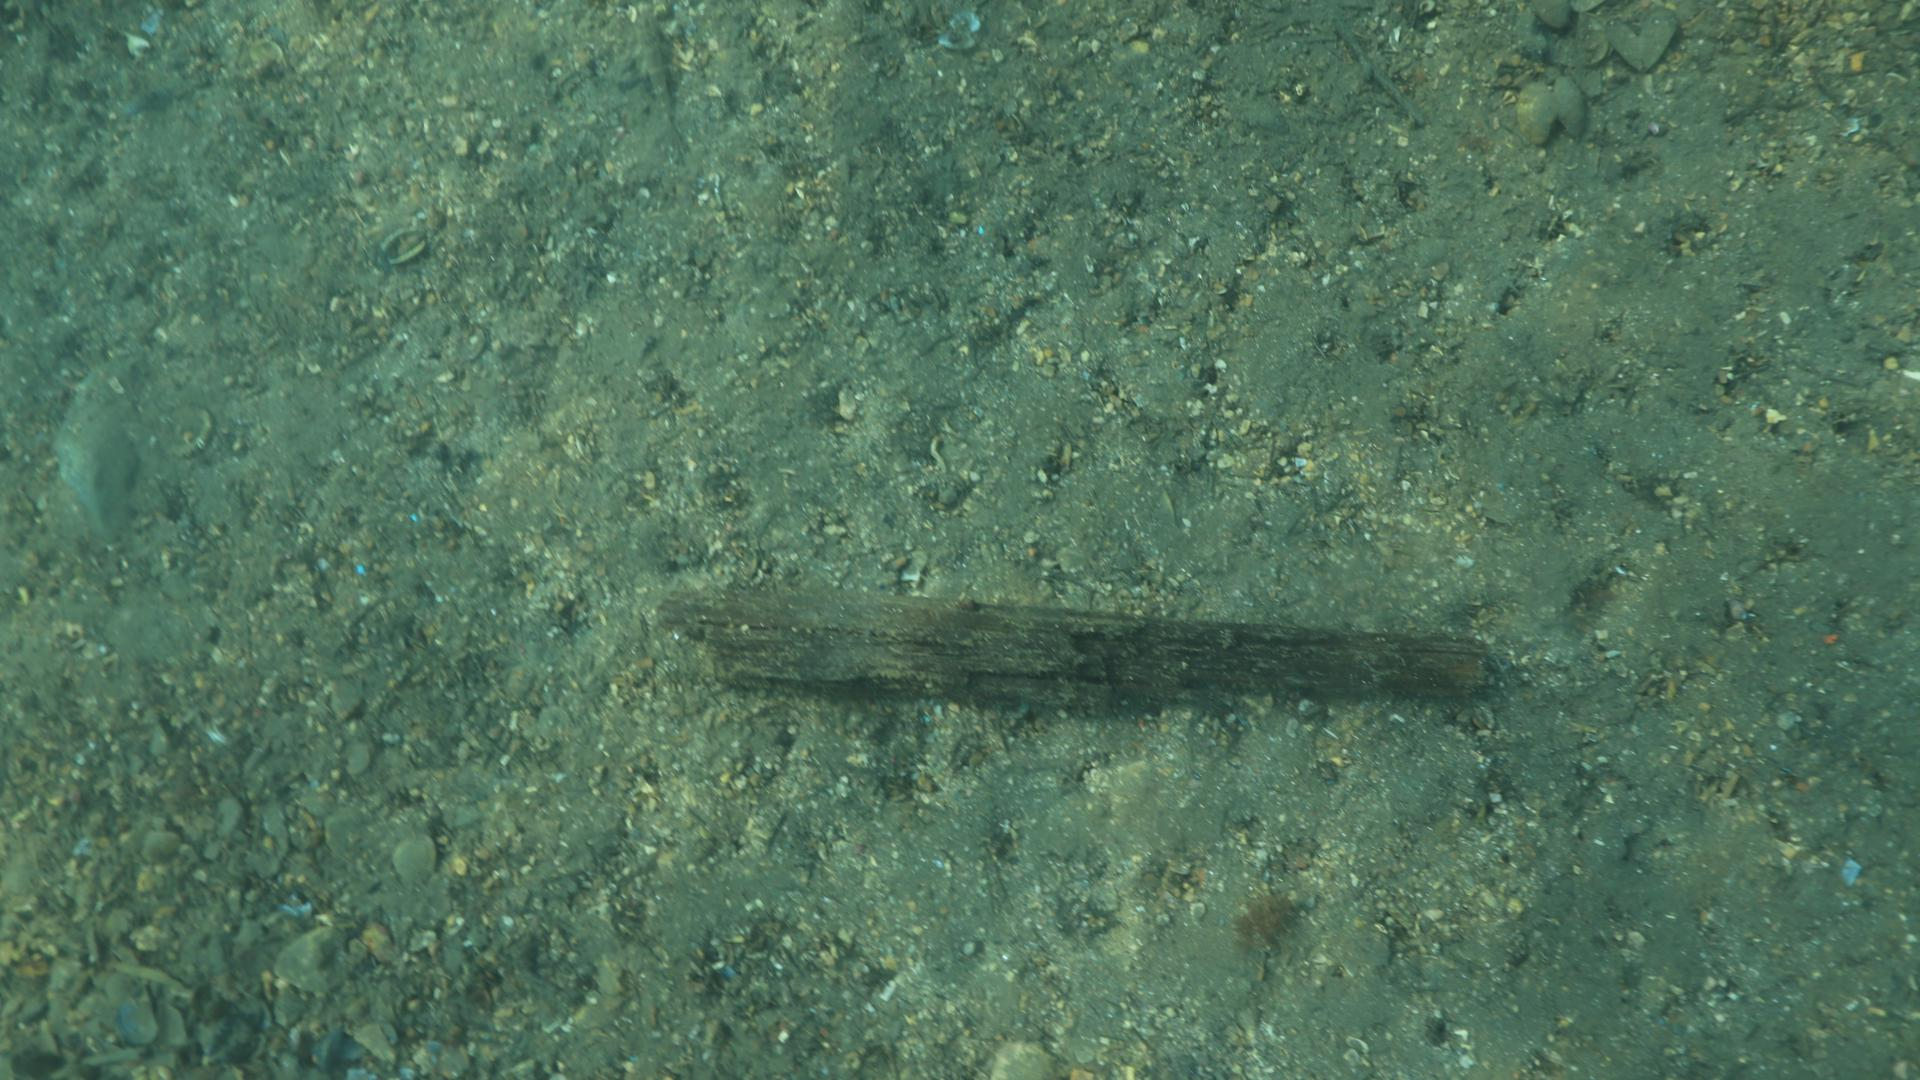wood: (655, 583, 1491, 708)
